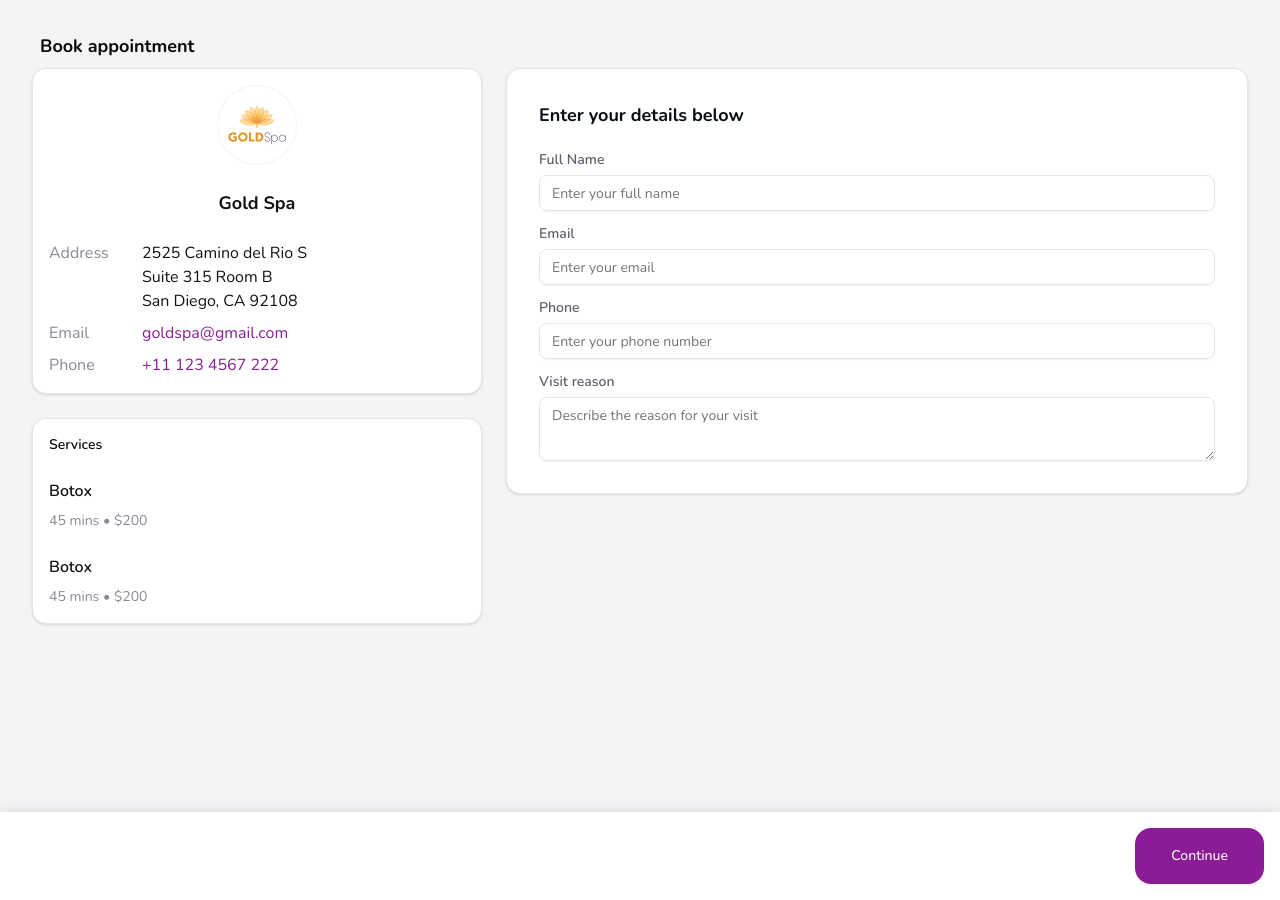
Test: ContactInformation › shows validation errors for empty required fields
This screenshot has width=1280, height=900.
Click the button "Continue" at [1200, 856], box [1135,828,1264,884]
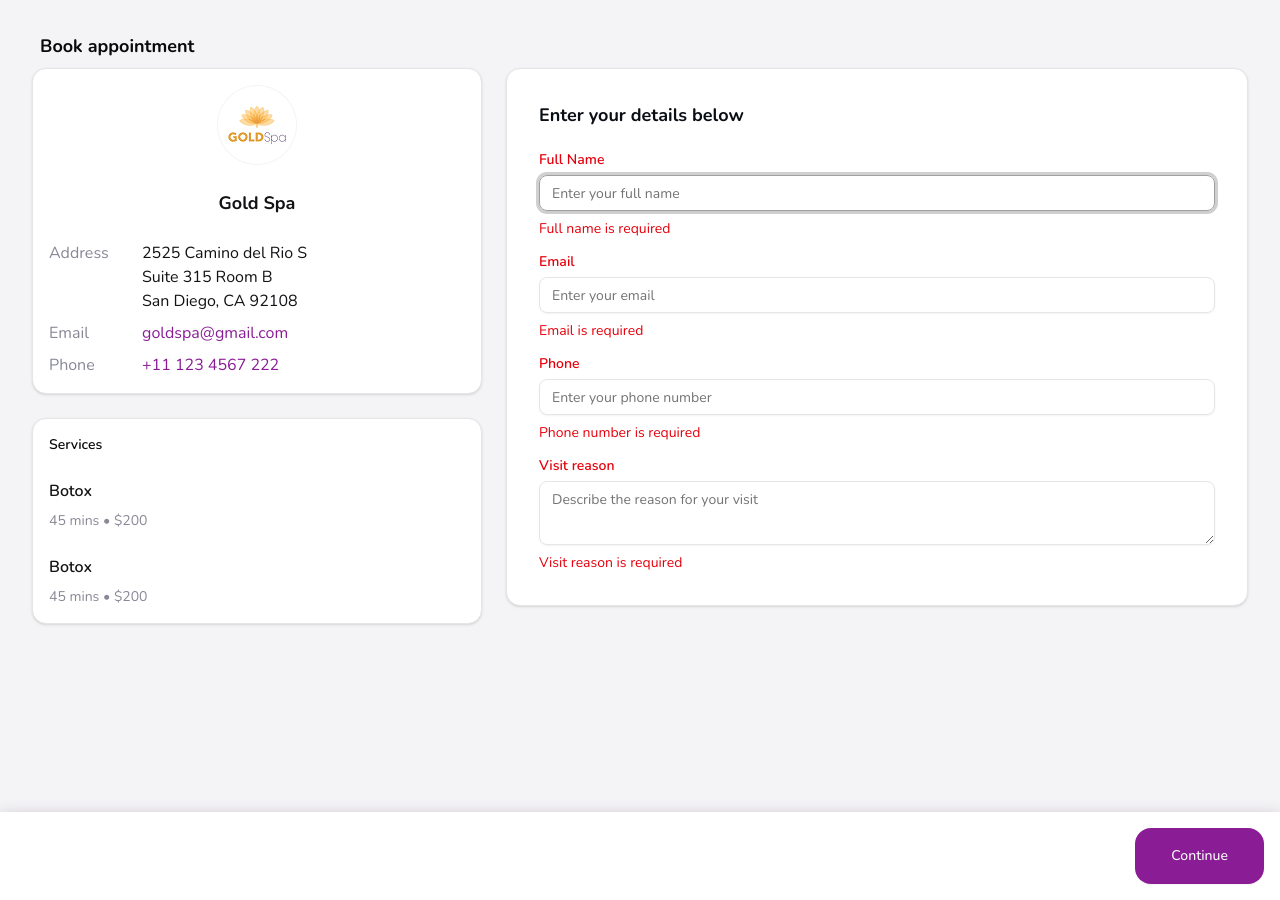
Expected: the text "Full name is required" is shown, [539,219,670,238]
Expected: the text "Email is required" is shown, [539,321,643,340]
Expected: the text "Phone number is required" is shown, [539,423,700,442]
